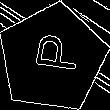P_W: (25, 37, 80, 80)
